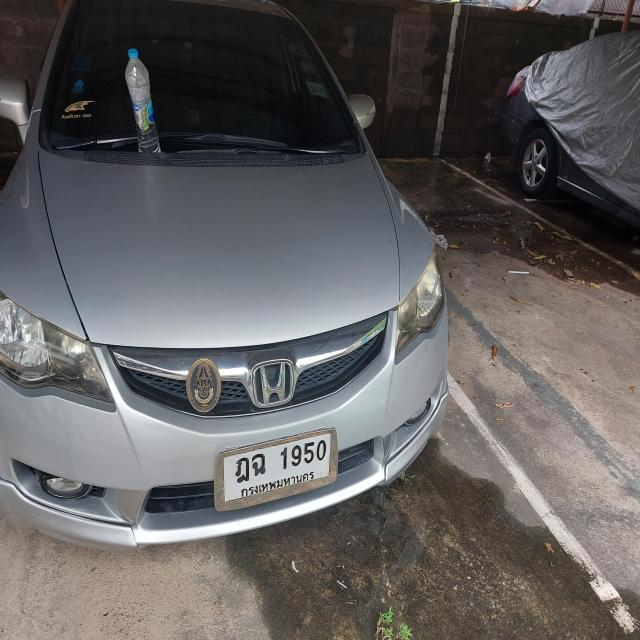license_plate: (211, 427, 341, 514)
